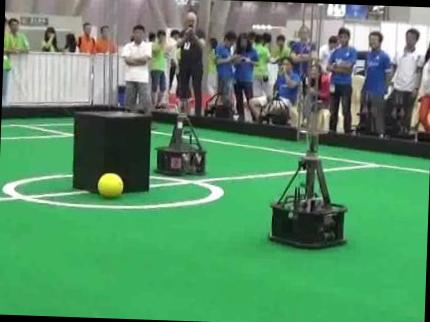ball: (97, 173, 122, 197)
robot: (270, 134, 346, 247), (157, 98, 206, 175)
